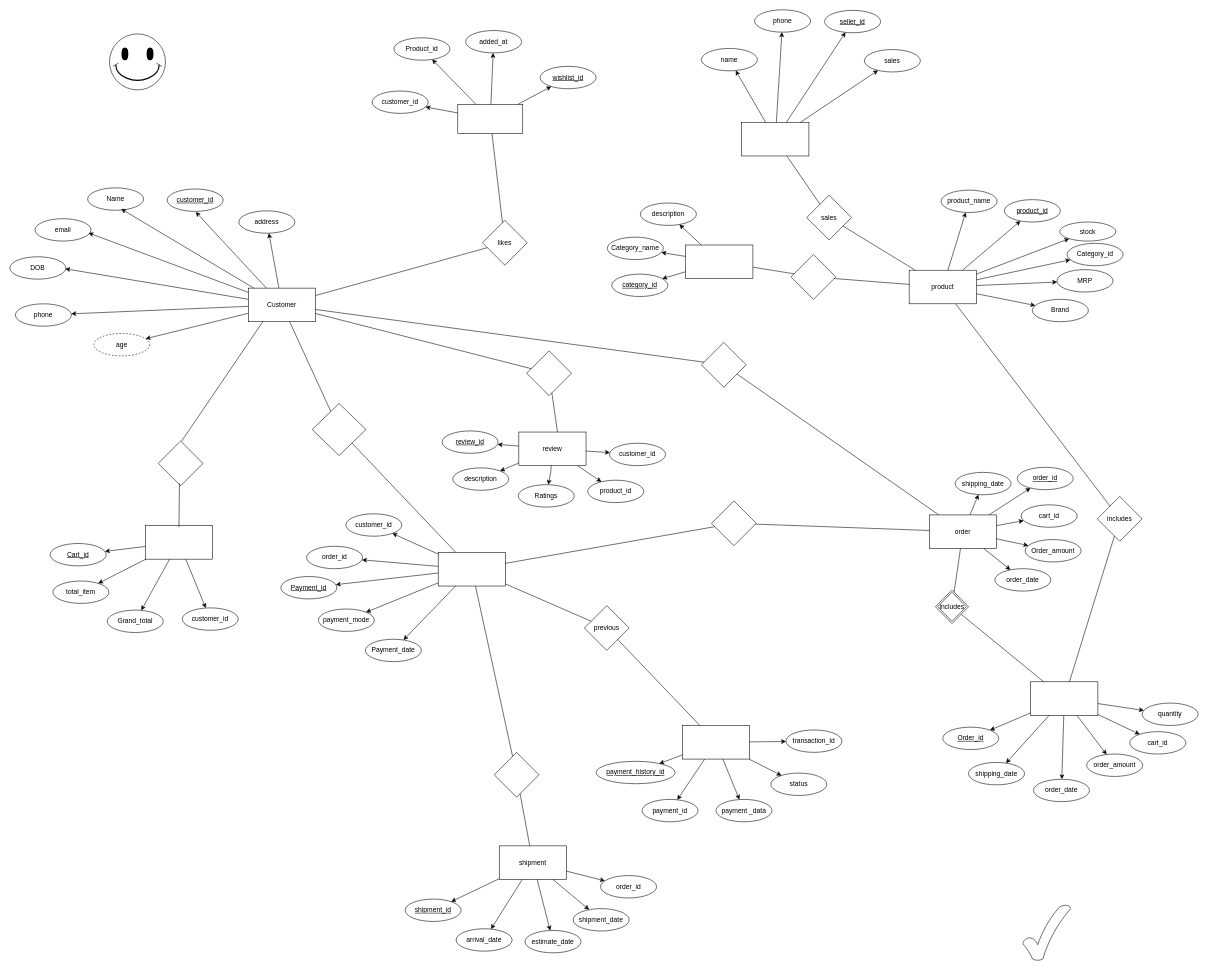
The diagram is 1208 pixels wide and 970 high, and some of its shapes have lost their labels. The centre of each missing label's shape, as x and y in pixels:
"cart" goes at [179,542].
"categorize" goes at [813,276].
"category" goes at [719,261].
"confirms" goes at [516,774].
"for" goes at [733,523].
"makes" goes at [339,429].
"order item" goes at [1064,698].
"Payment" goes at [471,569].
"payment history" goes at [716,742].
"places" goes at [723,364].
"seller" goes at [775,139].
"Shops" goes at [180,463].
"wishlist" goes at [490,119].
"write" goes at [548,373].
